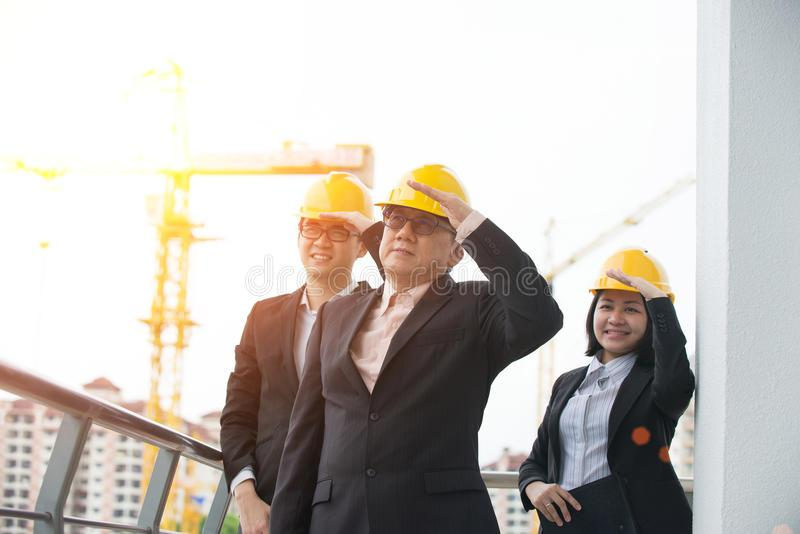helmet: (376, 164, 475, 222), (589, 247, 678, 304), (299, 174, 372, 233)
